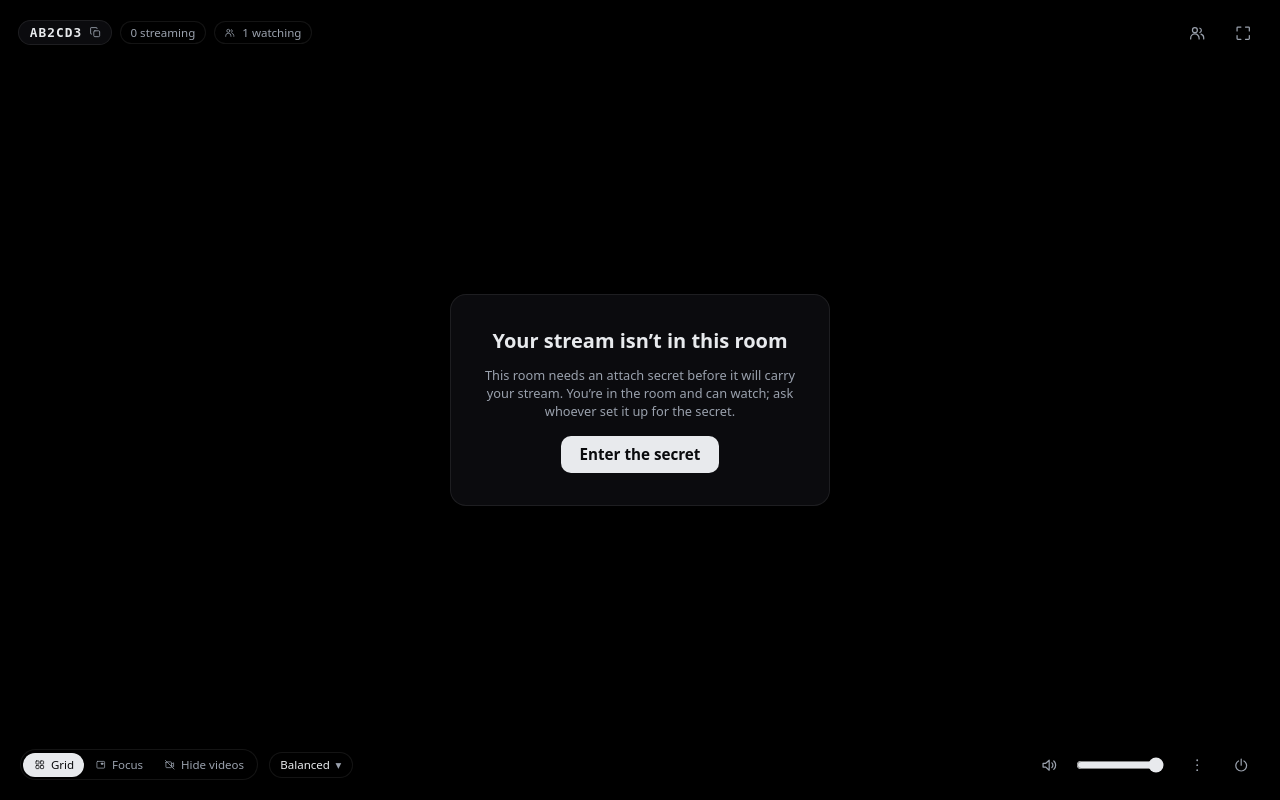
Test: a gated static room that refused the attach grant (D8) › a later lost session after an accepted secret does not blame the secret
Click the button "Enter the secret". click: (640, 454)
box: [561,436,719,473]
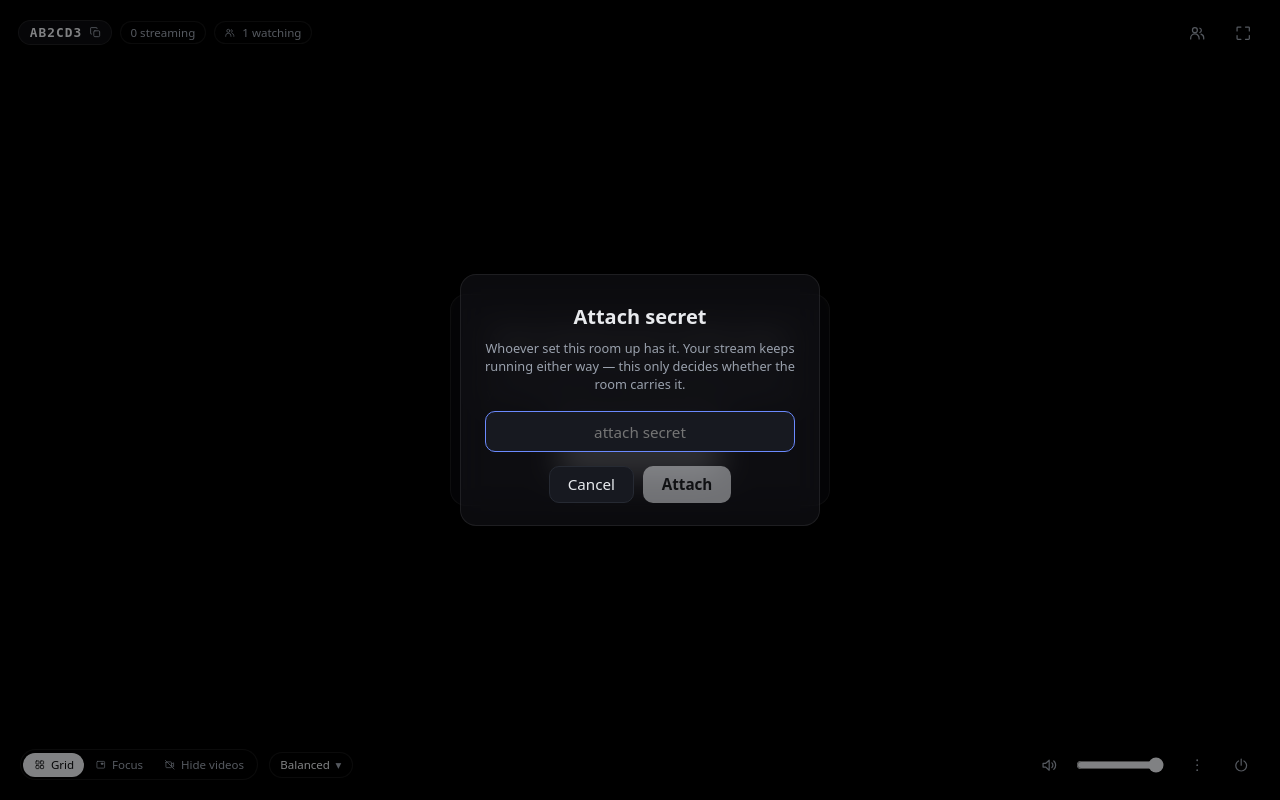
Type "hunter2" into the password field labelled "attach secret". click: (640, 432)
box: [485,411,795,452]
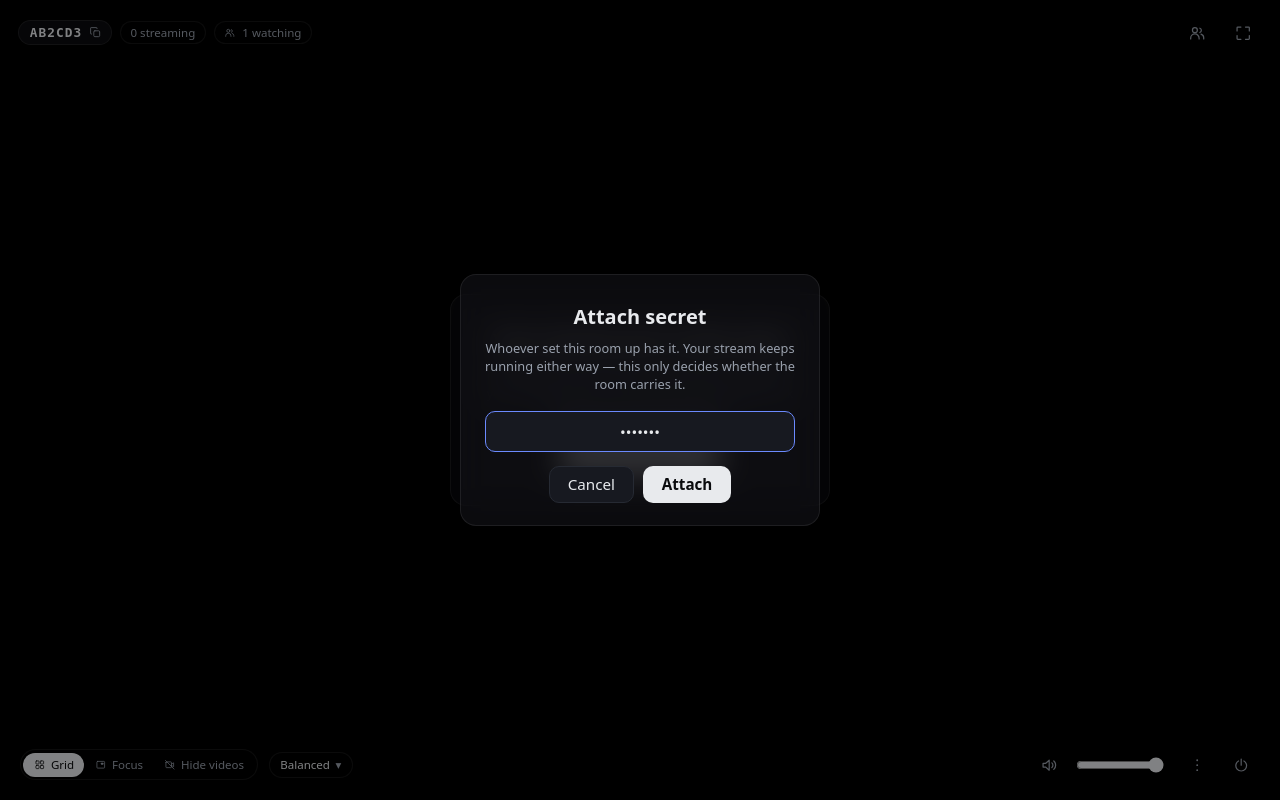
Click the button "Attach". click: (687, 485)
box: [643,466,731,503]
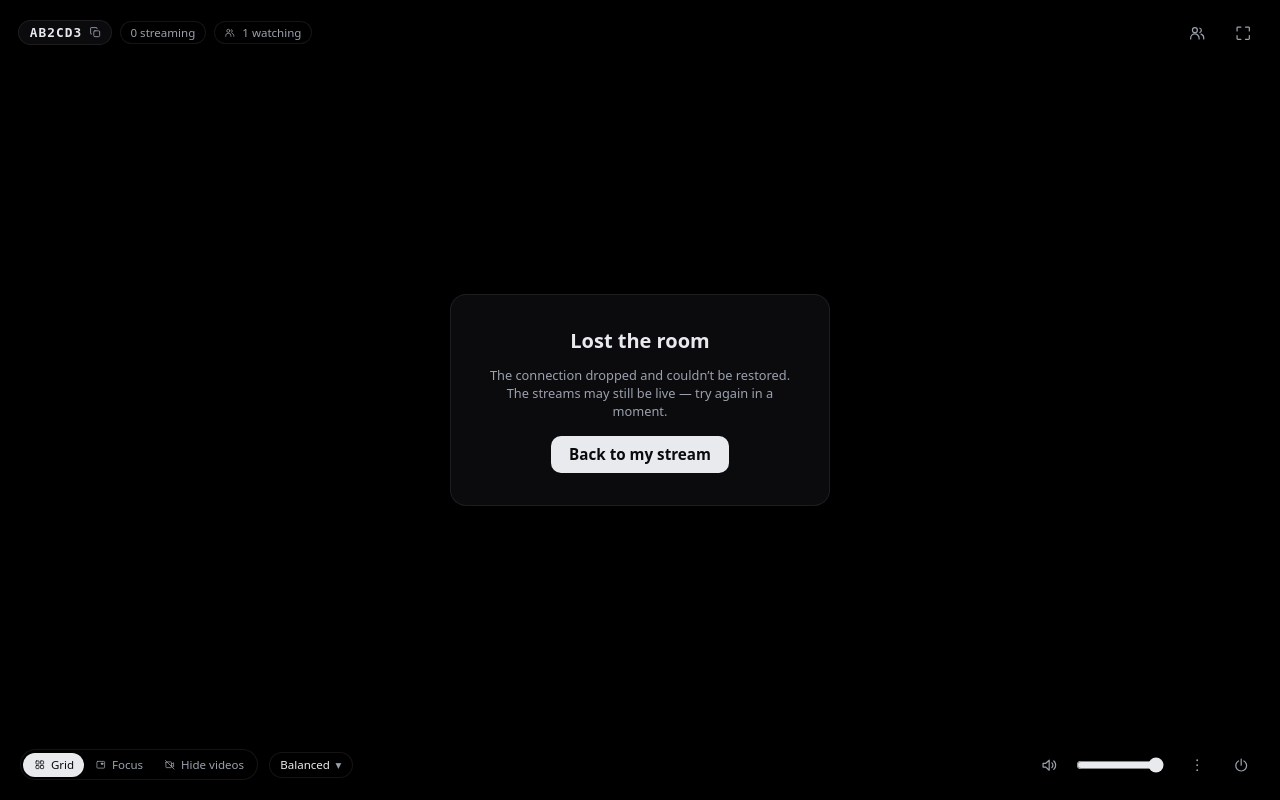
Expected: the heading "Lost the room" is shown, [570,327,710,354]
